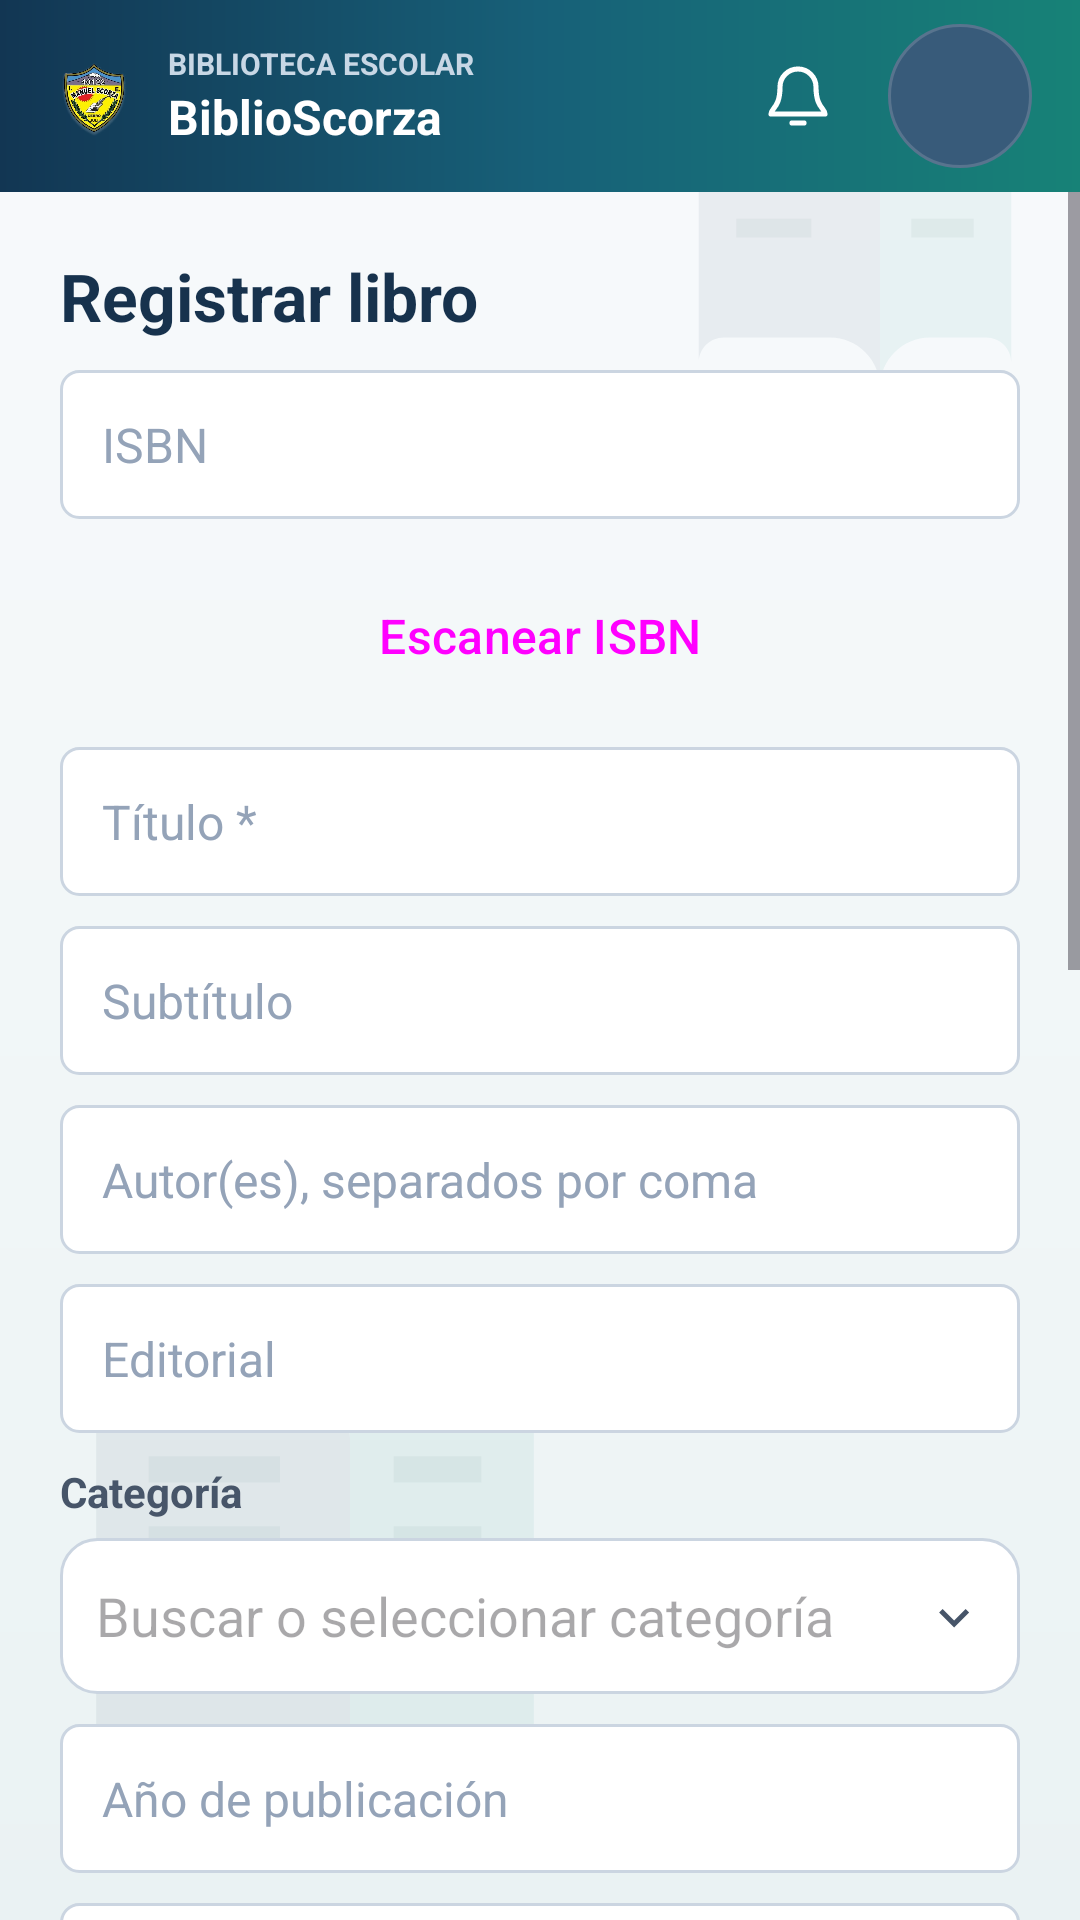

Icons on this 1080×1920 Android screen, each with the point to tap as [x,y]:
notifications: [798,96]
